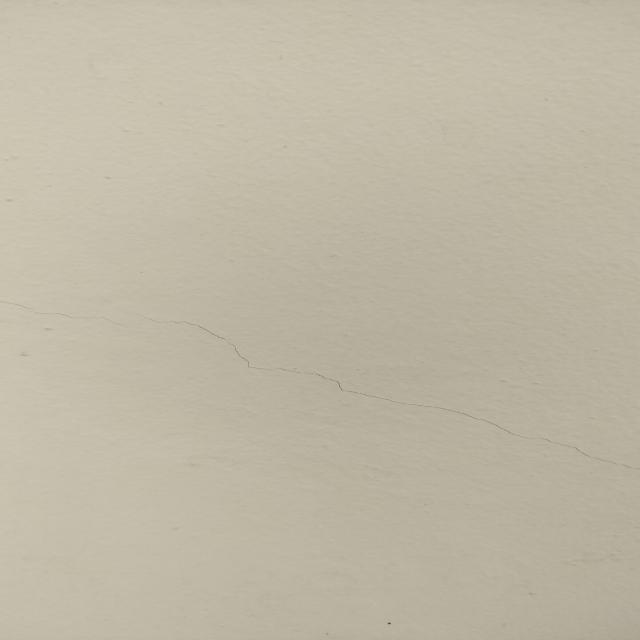Crack: (2, 296, 640, 471)
